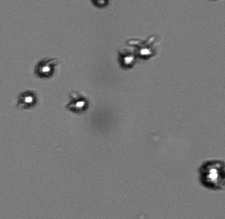Living Cell: (199, 157, 222, 190), (118, 48, 138, 70), (135, 39, 155, 61), (69, 93, 89, 114), (35, 59, 56, 78), (18, 89, 37, 108)
